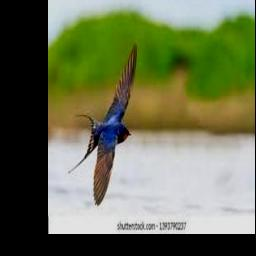Swallow: (67, 41, 137, 205)
